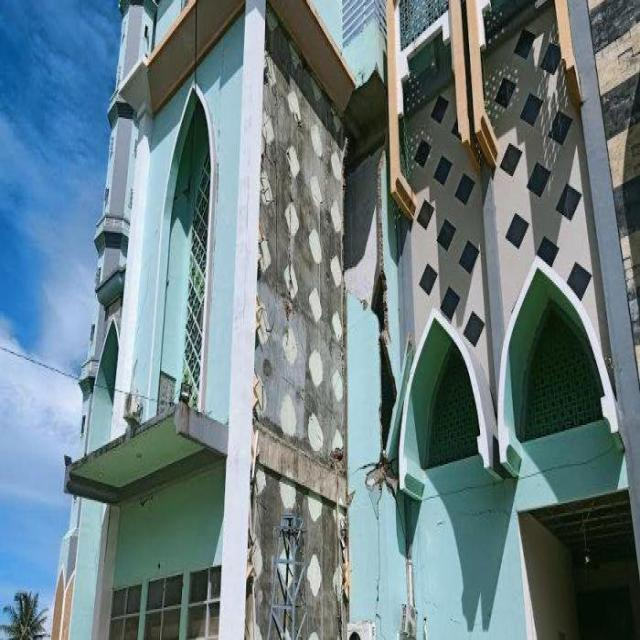damage: (347, 257, 408, 514), (400, 456, 638, 512), (354, 503, 400, 640)
